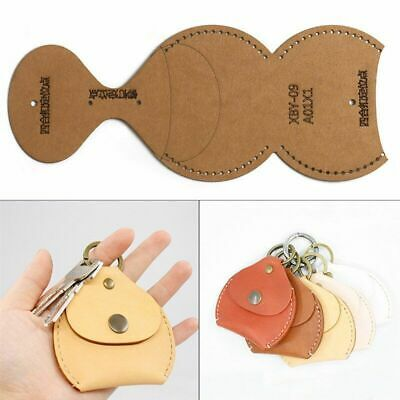cuero: (52, 256, 391, 391)
